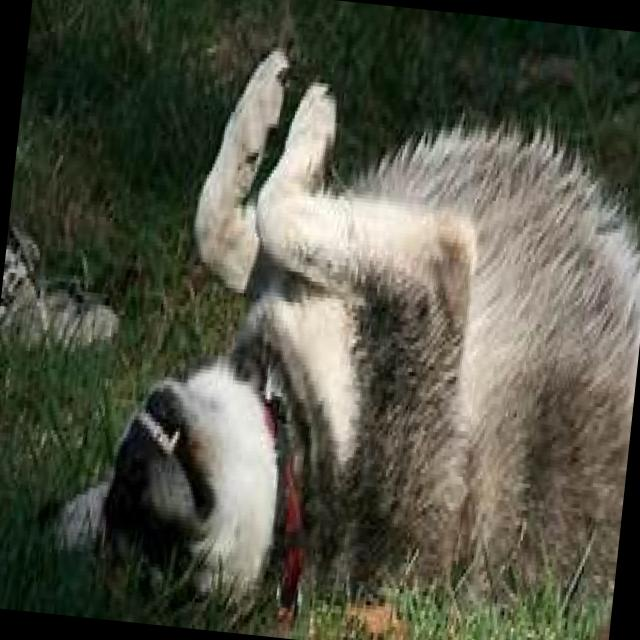dog: (21, 18, 640, 640)
